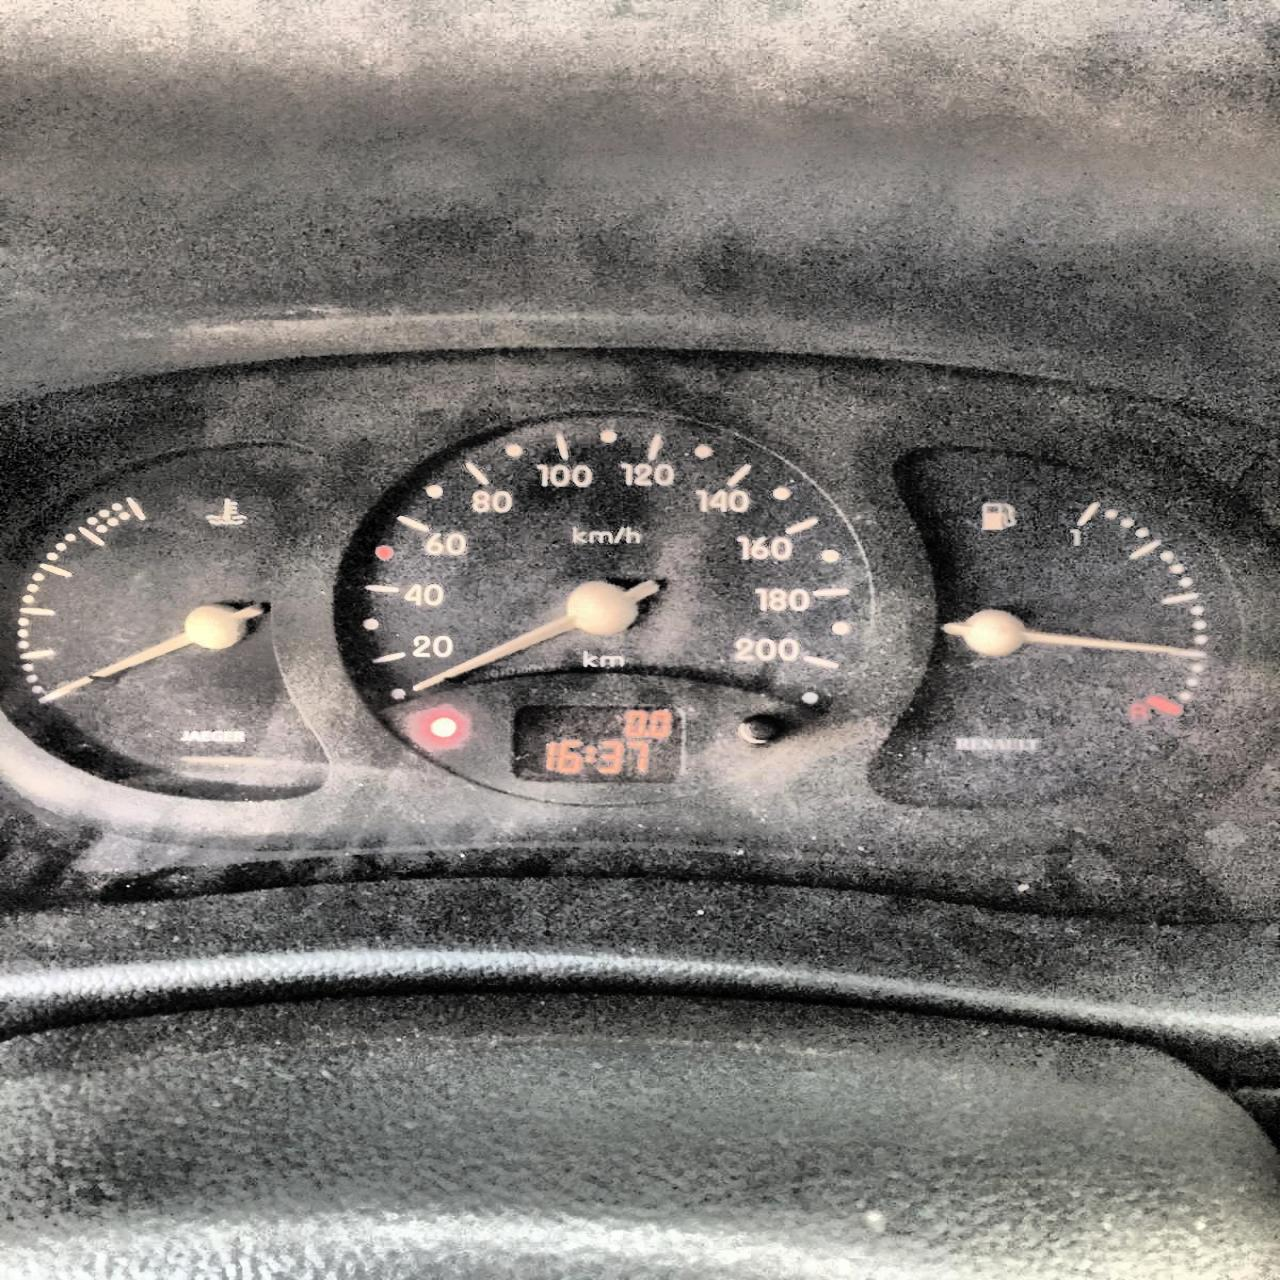-: (644, 730, 649, 737)
0: (648, 710, 669, 737), (624, 710, 645, 736)
1: (544, 741, 554, 769)
3: (598, 741, 621, 772)
6: (556, 738, 580, 772)
7: (625, 741, 648, 771)
X: (584, 745, 594, 763)
odometer: (509, 701, 686, 784)
